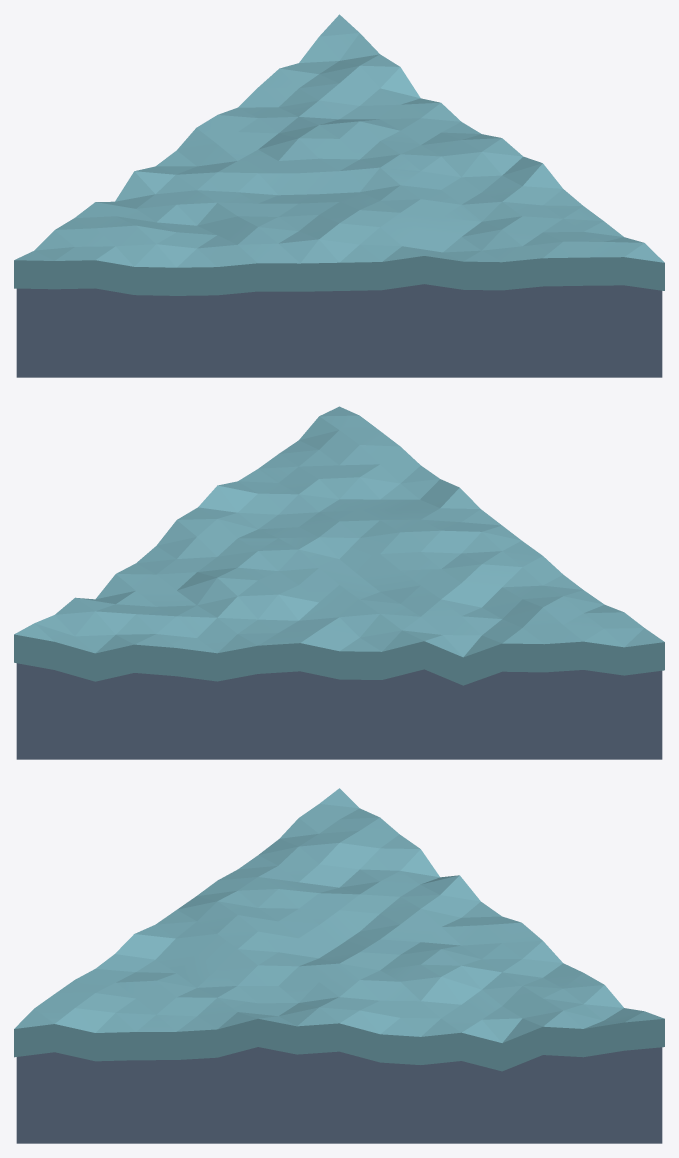
File: TILE_04_02_Water.fbx
3 views of the same model, one above another, from view 1: azimuth 30°, elevation 25°; view 2: azimuth 150°, elevation 25°; view 3: azimuth 270°, elevation 25° (orthographic).
Parts seen in each view (by area): view 1: polySurface13, polySurface12; view 2: polySurface13, polySurface12; view 3: polySurface13, polySurface12.
Boxes of the visible parts, x1,y1,x2,y2 form: polySurface13: (14, 14, 664, 295); polySurface12: (16, 284, 662, 377); polySurface13: (14, 406, 664, 685); polySurface12: (16, 663, 662, 759); polySurface13: (14, 788, 664, 1071); polySurface12: (16, 1047, 662, 1143).
Bounding box in the file's own units: 151 × 37.21 × 175.
